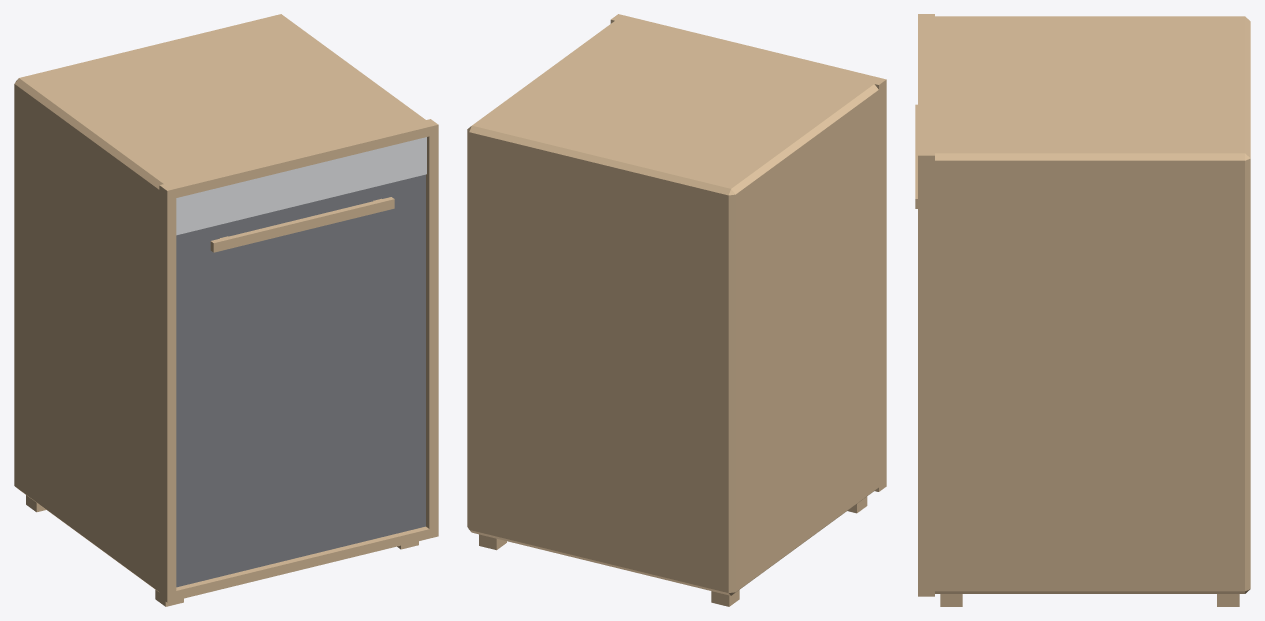
File: appliance.glb
3 renders of one model, left to right at view 1: azimuth 30°, elevation 25°; view 2: azimuth 150°, elevation 25°; view 3: azimuth 270°, elevation 25°, orthographic. The views are drawn at different scales.
Visible parts, largest first — view 1: appliance; view 2: appliance; view 3: appliance.
Part boxes in pixels (bbox=[...]): appliance: bbox=[14, 14, 438, 606]; appliance: bbox=[467, 14, 886, 606]; appliance: bbox=[915, 14, 1250, 606].
Size of the model in its own units: 0.6 by 0.9 by 0.6.
